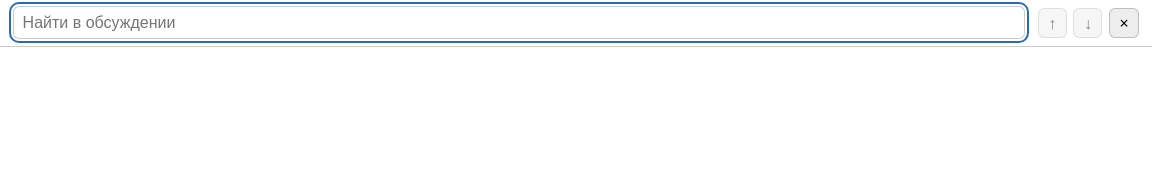
Test: search in a discussion (FR-211 to FR-213, code review TS-1) › searches a moment after typing and shows the count
The width and height of the screenshot is (1152, 173).
Type "смета" into the search field with test id "search-input" at (519, 23), box left=13, top=6, right=1025, bottom=39
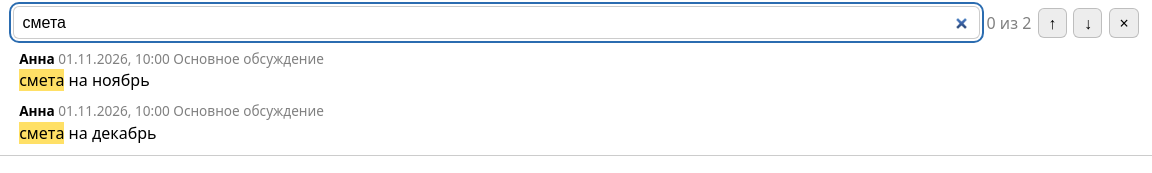
Now the list with test id "search-results" is shown, box left=13, top=44, right=1139, bottom=148
